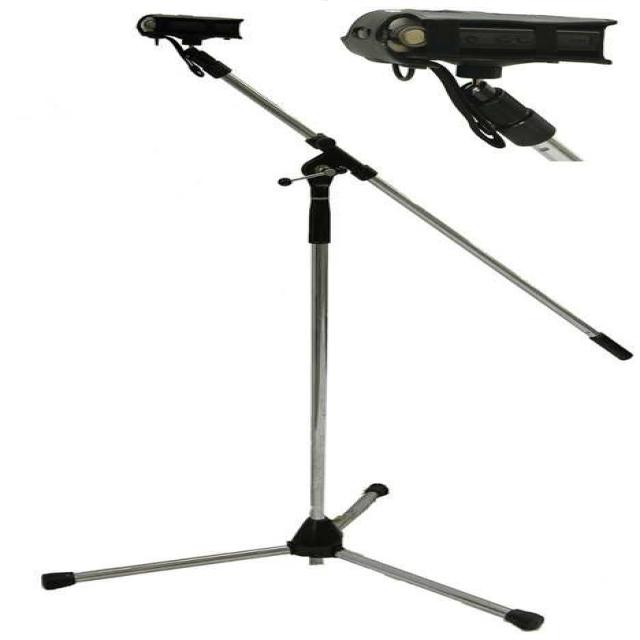microphone: (138, 13, 244, 43)
